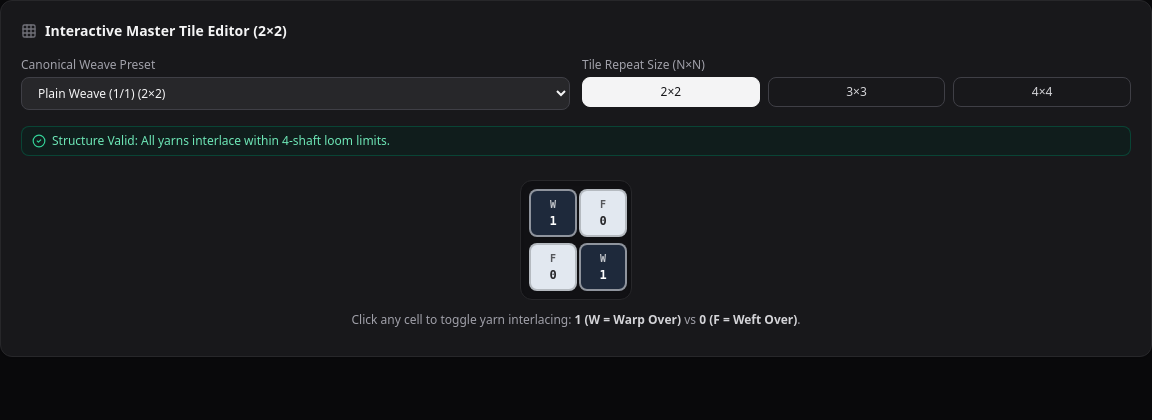
Test: Issue #6: Master Tile Real-Time Float and Structural Validation › displays real-time structural warning when a column is modified to be entirely uniform (all 1s)
Note: Pick 2, End 1 is currently 0 (Weft Over). Click it to toggle to 1.
Click the 2nd button titled "Pick 2, End 1": click(553, 267) left=529, top=243, right=577, bottom=291
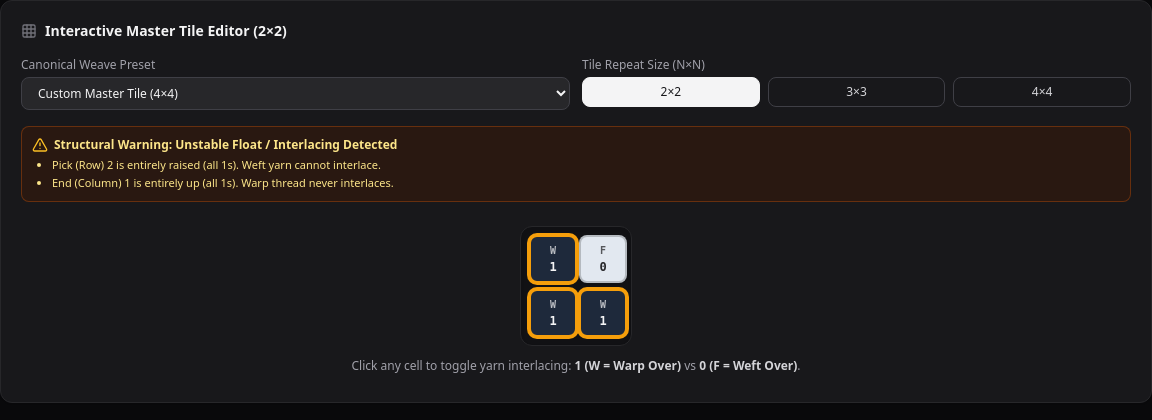
Expected: the message is shown, left=21, top=126, right=1131, bottom=202
Expected: the list item "End (Column) 1 is entirely up (all 1s)" is shown, left=52, top=175, right=394, bottom=190
